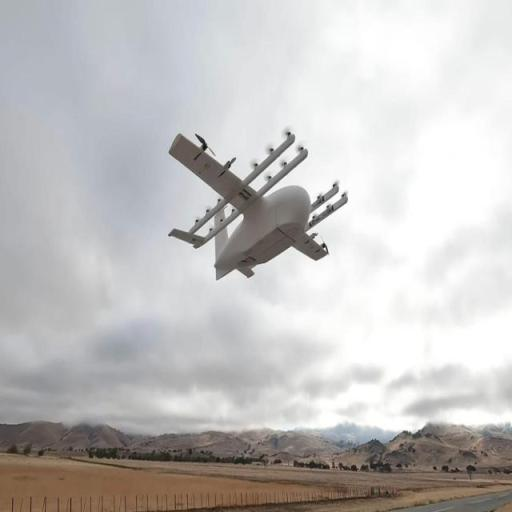uav: (162, 116, 350, 290)
